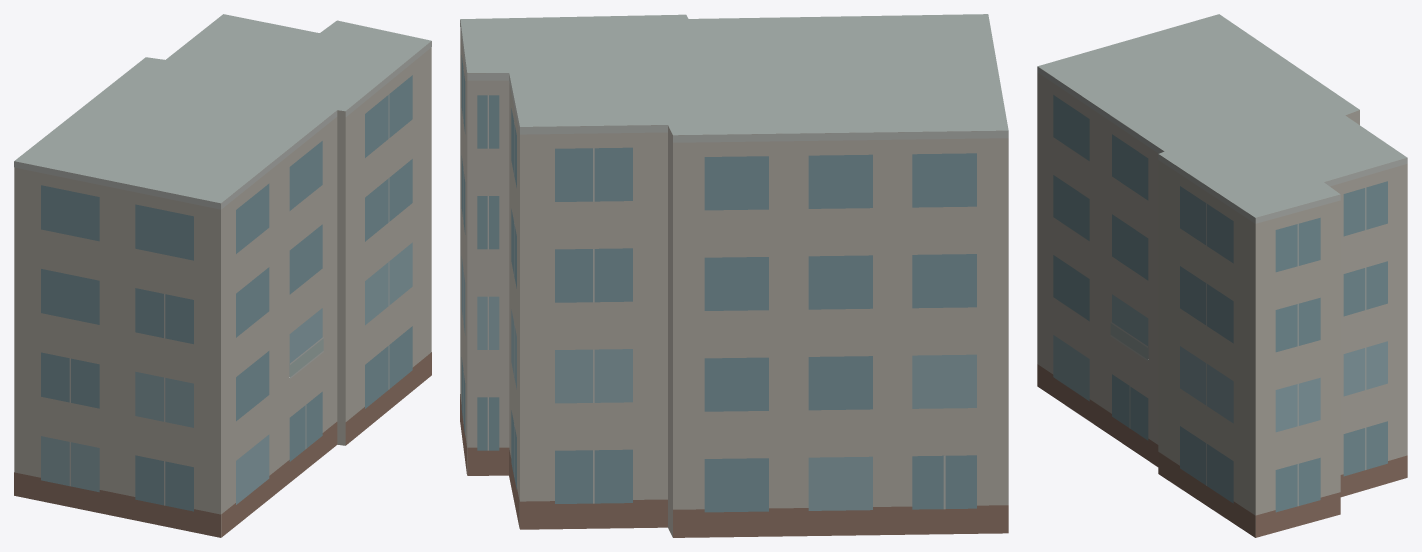
The model's file is survey-upis-32705489.glb.
The picture shows the model from 3 angles, left to right: view 1: azimuth 30°, elevation 25°; view 2: azimuth 150°, elevation 25°; view 3: azimuth 270°, elevation 25°; orthographic projection. The views are drawn at different scales.
Visible parts, largest first — view 1: survey-upis-32705489.tmp; view 2: survey-upis-32705489.tmp; view 3: survey-upis-32705489.tmp.
Boxes of the visible parts, x1,y1,x2,y2 form: survey-upis-32705489.tmp: (14, 14, 431, 537); survey-upis-32705489.tmp: (460, 14, 1008, 537); survey-upis-32705489.tmp: (1037, 14, 1407, 537).
Bounding box in the file's own units: 17.63 × 12.9 × 13.53.
